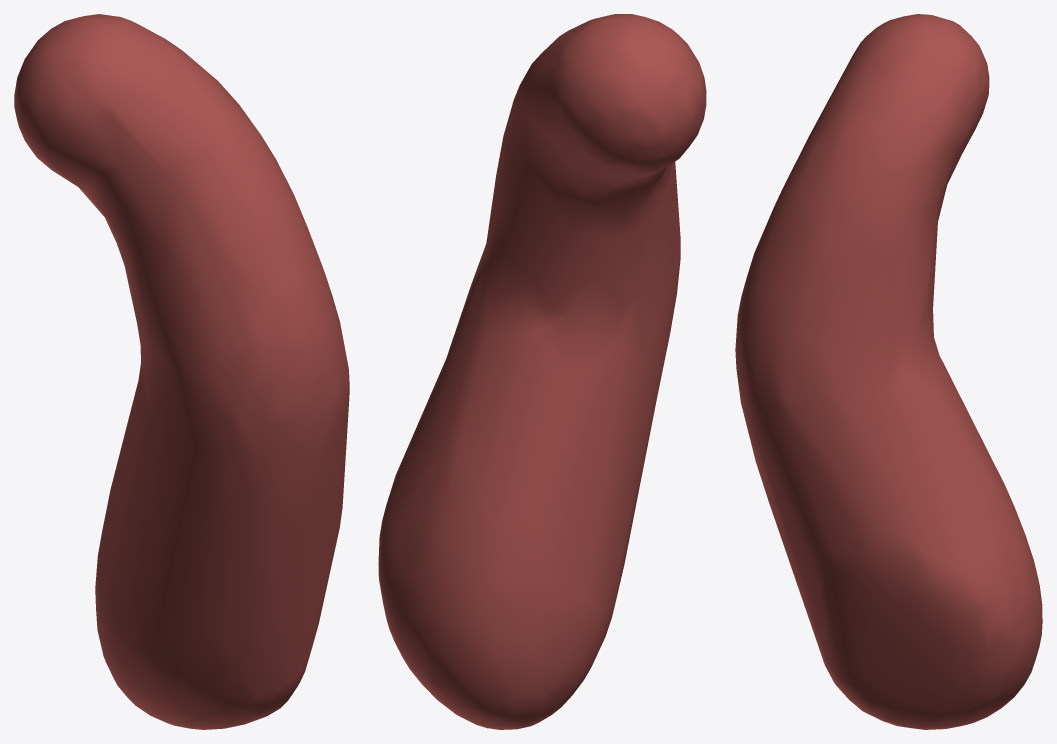
Rendered from FMA4751.glb.
3 renders of one model, left to right at view 1: azimuth 30°, elevation 25°; view 2: azimuth 150°, elevation 25°; view 3: azimuth 270°, elevation 25°, orthographic. The views are drawn at different scales.
Visible parts, largest first — view 1: FMA4751; view 2: FMA4751; view 3: FMA4751.
Boxes of the visible parts, left/top/right/bottom form: FMA4751: left=14, top=14, right=349, bottom=729; FMA4751: left=378, top=14, right=706, bottom=729; FMA4751: left=735, top=14, right=1042, bottom=729.
Bounding box in the file's own units: 0.022 × 0.052 × 0.0222.
